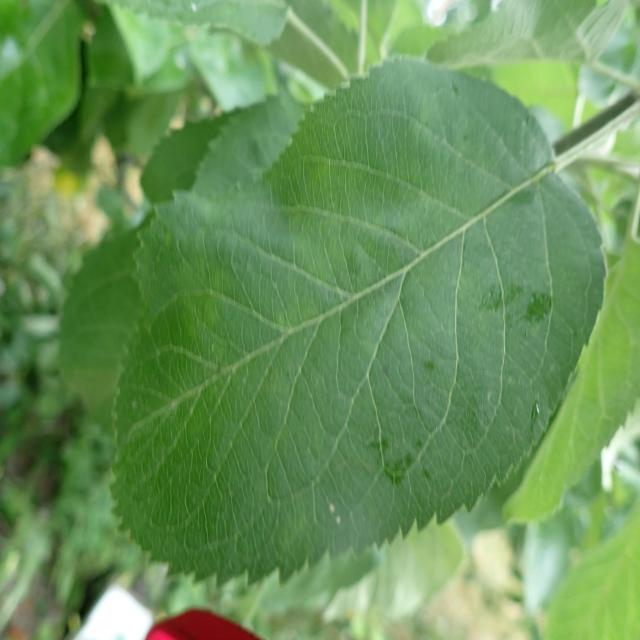healthy: (111, 54, 609, 589), (499, 234, 640, 526)
